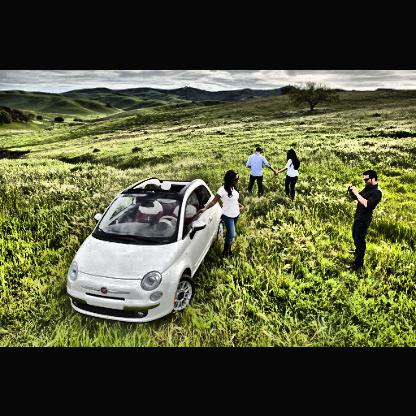FIAT 500 Convertible 2012: (65, 177, 224, 328)
